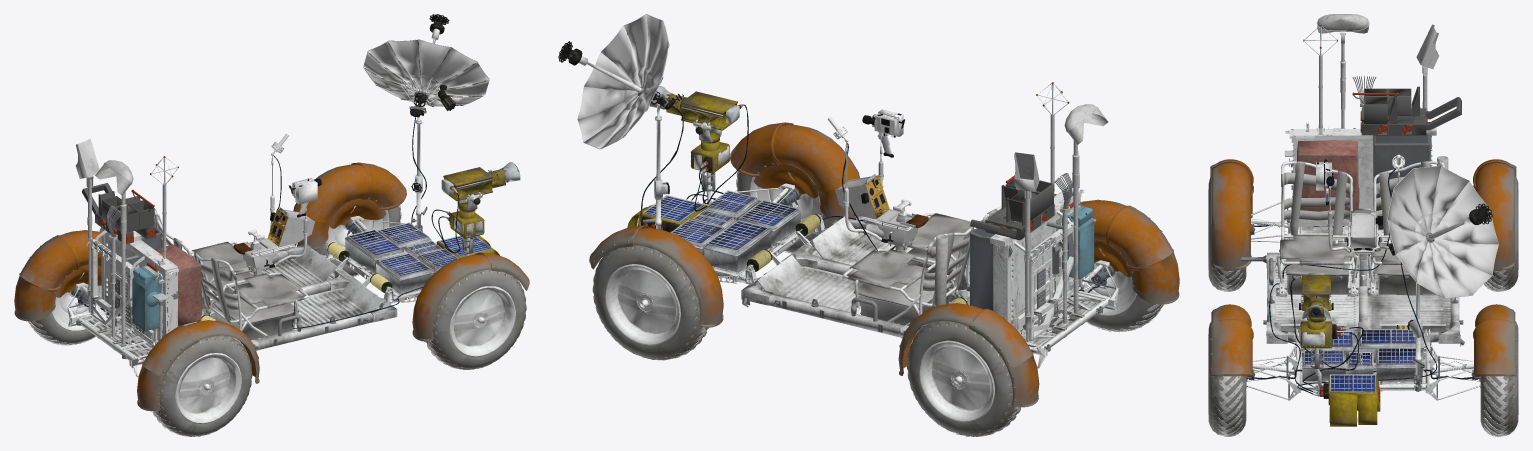
Rendered from lrv.glb.
3 views of the same model, side by side, from view 1: azimuth 30°, elevation 25°; view 2: azimuth 150°, elevation 25°; view 3: azimuth 270°, elevation 25° (orthographic). The views are drawn at different scales.
Visible parts, largest first — view 1: Object_8, Object_16, Object_11, Object_6, Object_13, Object_17, Object_12, Object_14; view 2: Object_8, Object_16, Object_11, Object_6, Object_13, Object_17, Object_12, Object_14; view 3: Object_8, Object_16, Object_11, Object_17, Object_13, Object_6, Object_14, Object_12.
Part boxes in pixels (bbox=[...]): Object_8: bbox=[14, 162, 529, 436]; Object_16: bbox=[75, 139, 201, 346]; Object_11: bbox=[273, 14, 520, 328]; Object_6: bbox=[70, 242, 422, 366]; Object_13: bbox=[154, 208, 308, 340]; Object_17: bbox=[363, 39, 489, 106]; Object_12: bbox=[233, 134, 321, 276]; Object_14: bbox=[67, 215, 484, 377]; Object_8: bbox=[589, 122, 1179, 436]; Object_16: bbox=[970, 82, 1108, 342]; Object_11: bbox=[558, 33, 895, 271]; Object_6: bbox=[712, 213, 1115, 356]; Object_13: bbox=[842, 205, 1001, 325]; Object_17: bbox=[577, 14, 668, 149]; Object_12: bbox=[827, 109, 928, 252]; Object_14: bbox=[690, 146, 1118, 368]; Object_8: bbox=[1208, 159, 1518, 436]; Object_16: bbox=[1284, 14, 1461, 229]; Object_11: bbox=[1269, 168, 1492, 426]; Object_17: bbox=[1387, 165, 1498, 298]; Object_13: bbox=[1269, 156, 1448, 296]; Object_6: bbox=[1241, 226, 1464, 393]; Object_14: bbox=[1246, 128, 1480, 400]; Object_12: bbox=[1316, 154, 1404, 286].
Size of the model in its own units: 3.1 by 1.77 by 1.78.
Materials: 9 (7 with a texture image).
